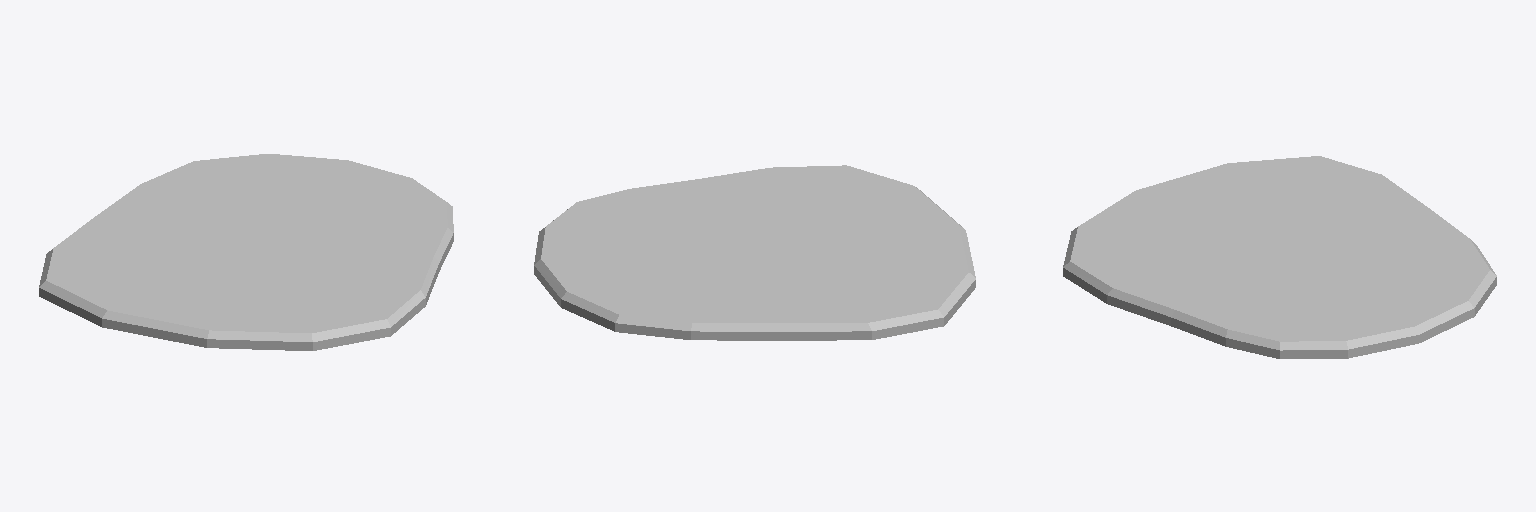
Rendered from dough_rolled_A.obj.
The picture shows the model from 3 angles: view 1: azimuth 30°, elevation 25°; view 2: azimuth 150°, elevation 25°; view 3: azimuth 270°, elevation 25°; orthographic projection.
Parts seen in each view (by area): view 1: dough_rolled_A; view 2: dough_rolled_A; view 3: dough_rolled_A.
Part boxes in pixels (bbox=[...]): dough_rolled_A: bbox=[39, 154, 453, 350]; dough_rolled_A: bbox=[534, 165, 975, 340]; dough_rolled_A: bbox=[1063, 156, 1496, 358].
Size of the model in its own units: 1.38 by 0.05 by 1.32.